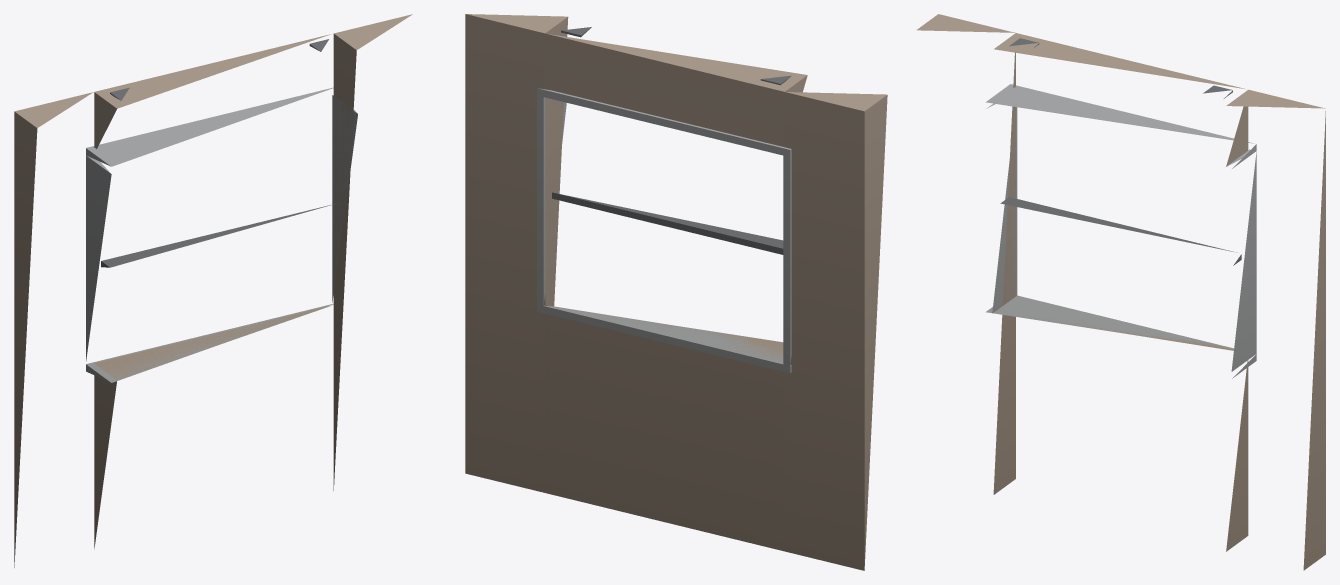
File: windowWall_regocrete_meshin.glb
3 views of the same model, side by side, from view 1: azimuth 30°, elevation 25°; view 2: azimuth 150°, elevation 25°; view 3: azimuth 330°, elevation 25° (orthographic). The views are drawn at different scales.
Parts seen in each view (by area): view 1: windowWall_regocrete_meshin; view 2: windowWall_regocrete_meshin; view 3: windowWall_regocrete_meshin.
Boxes of the visible parts, box(x1,y1,x2,y2) form: windowWall_regocrete_meshin: box(14, 14, 412, 567); windowWall_regocrete_meshin: box(465, 14, 887, 570); windowWall_regocrete_meshin: box(916, 14, 1325, 570).
Size of the model in its own units: 2 by 2.21 by 0.224.
